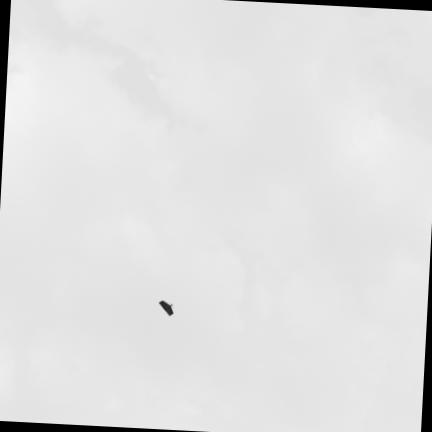Shahed: (160, 301, 173, 315)
